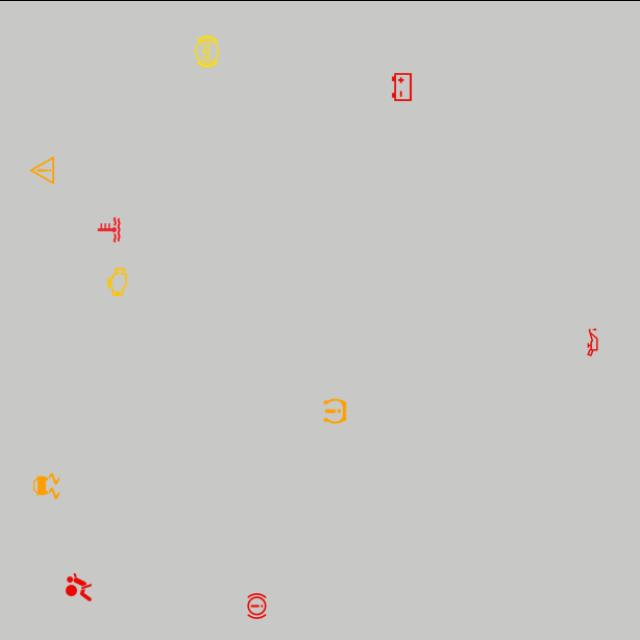Anti Lock Braking System: (190, 34, 224, 68)
Braking System Issue: (240, 588, 274, 622)
Charging System Issue: (385, 69, 419, 103)
Check Engine: (100, 264, 134, 298)
Electronic Stability Problem -ESP-: (30, 468, 64, 502)
Engine Overheating Warning Light: (92, 212, 126, 246)
Low Engine Oil Warning Light: (576, 324, 610, 358)
Low Tire Pressure Warning Light: (318, 393, 352, 427)
Master warning light: (25, 152, 59, 186)
SRS-Airbag: (61, 570, 95, 604)
